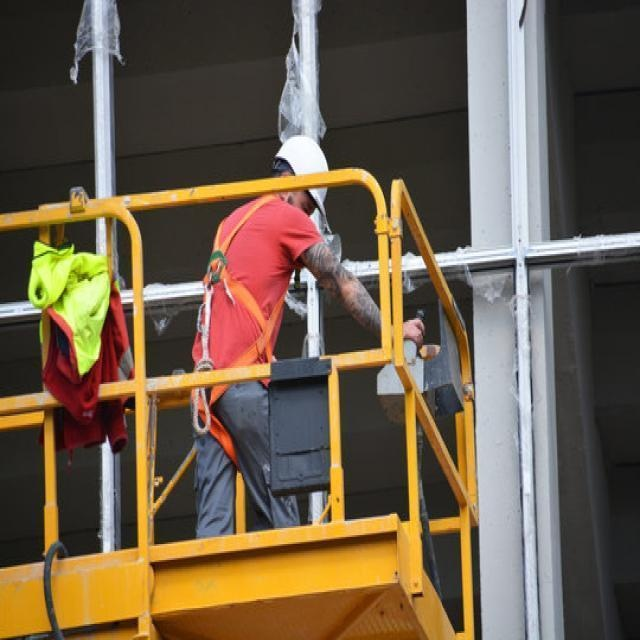Arnes_seguridad: (192, 193, 291, 431)
